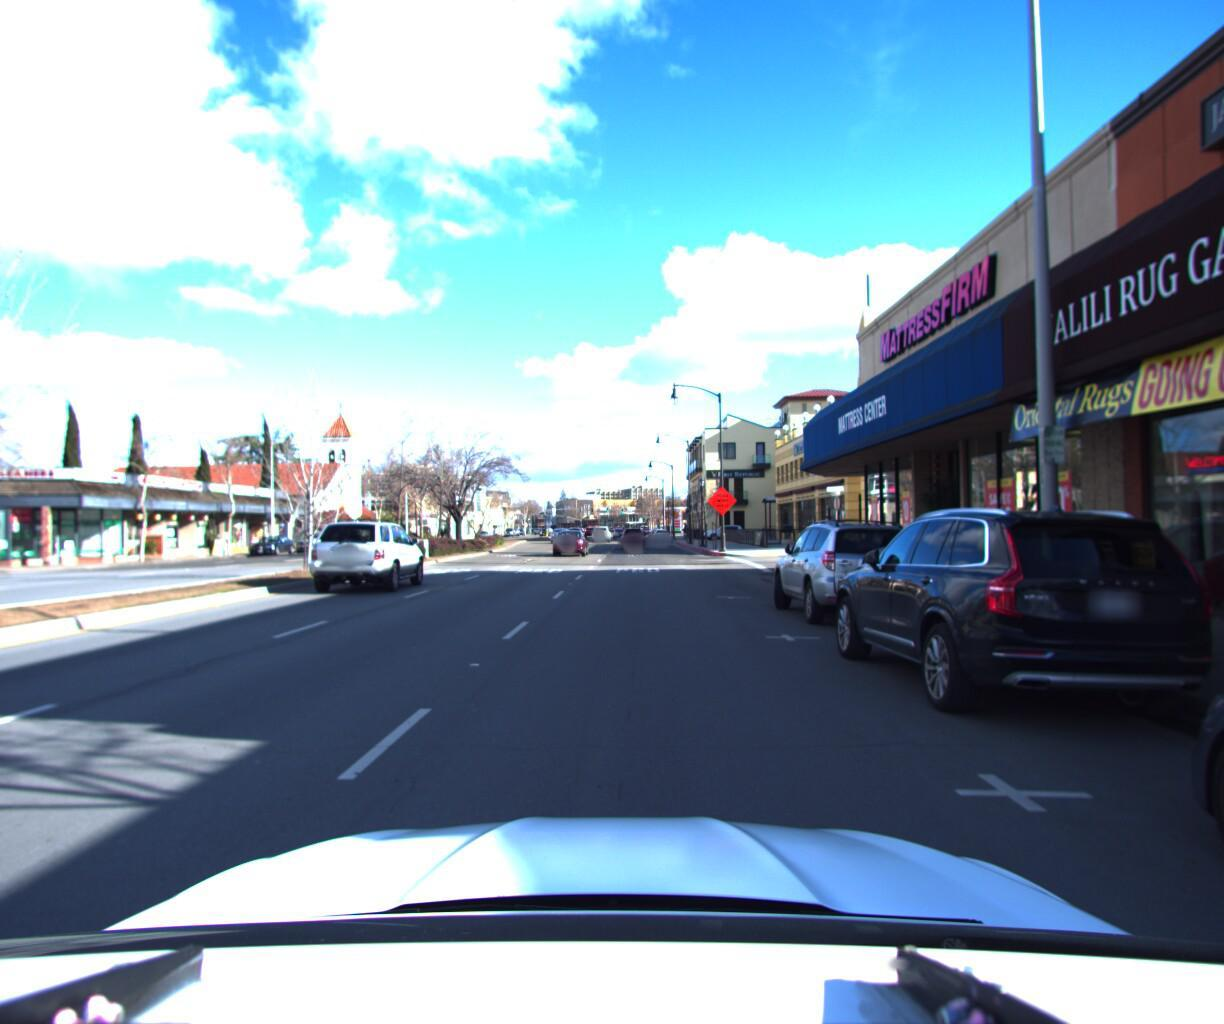car: (825, 490, 1224, 743), (768, 513, 944, 633), (309, 513, 433, 596), (250, 535, 303, 559), (554, 525, 591, 555), (702, 523, 745, 539), (621, 527, 646, 550), (592, 527, 611, 542)
